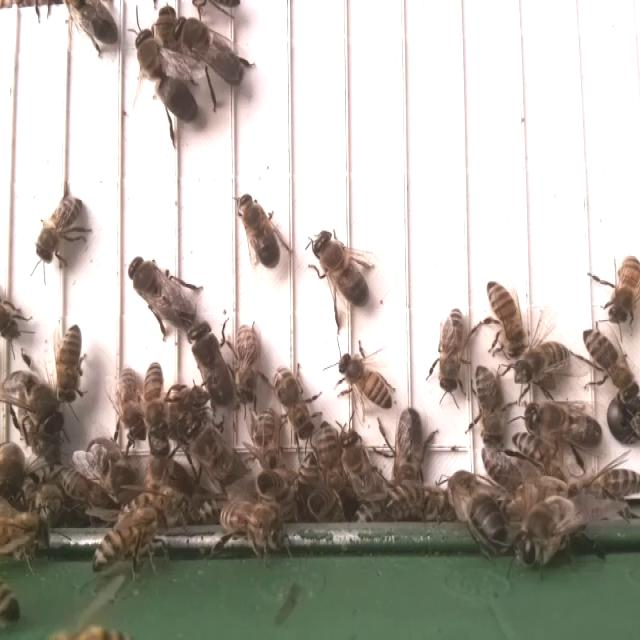Drone: (134, 26, 200, 128), (172, 15, 250, 89), (126, 251, 195, 331), (312, 225, 373, 314), (523, 399, 605, 456), (188, 320, 236, 410), (0, 372, 63, 436), (234, 190, 283, 272), (393, 403, 426, 492)
Worker: (582, 323, 636, 399), (96, 503, 165, 562), (335, 351, 394, 410), (34, 198, 84, 264), (485, 278, 525, 360), (274, 364, 315, 441), (438, 303, 469, 396), (517, 336, 570, 389), (112, 366, 146, 446), (53, 320, 84, 406), (231, 320, 261, 407), (473, 362, 505, 442), (607, 253, 640, 327), (144, 358, 167, 449), (316, 419, 342, 499)
